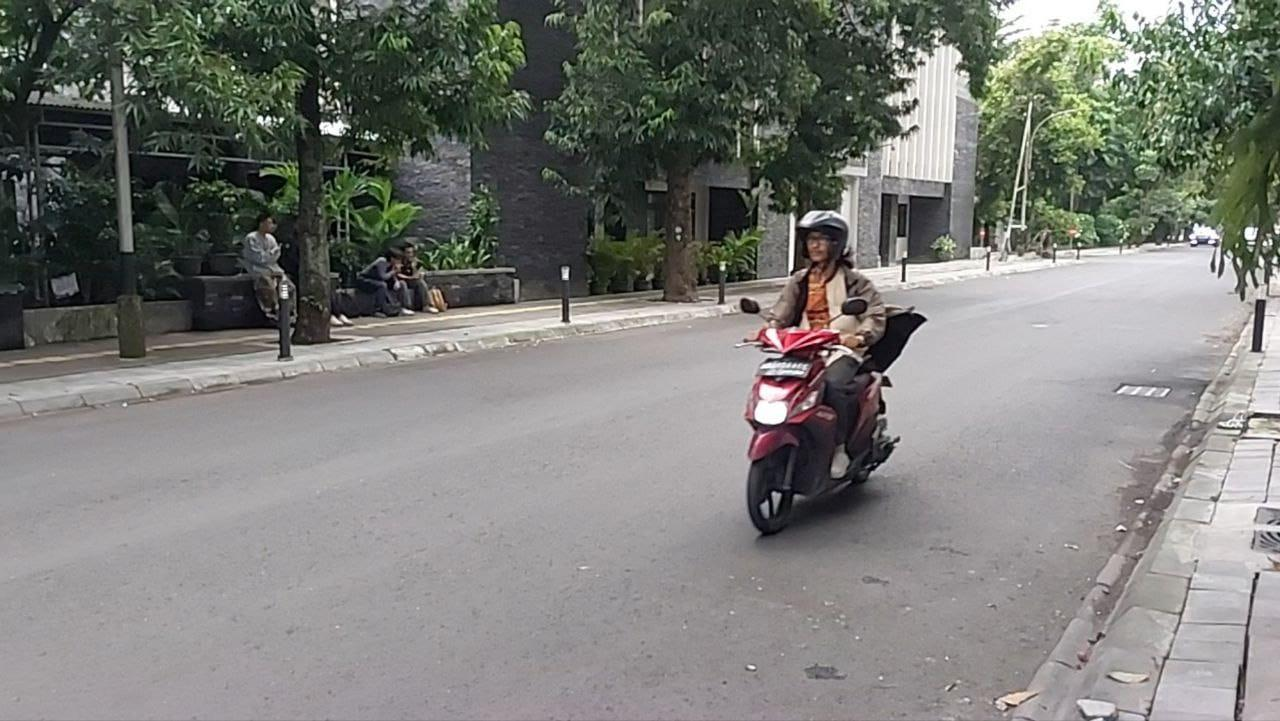helm: (794, 209, 850, 263)
riding: (739, 208, 904, 535)
